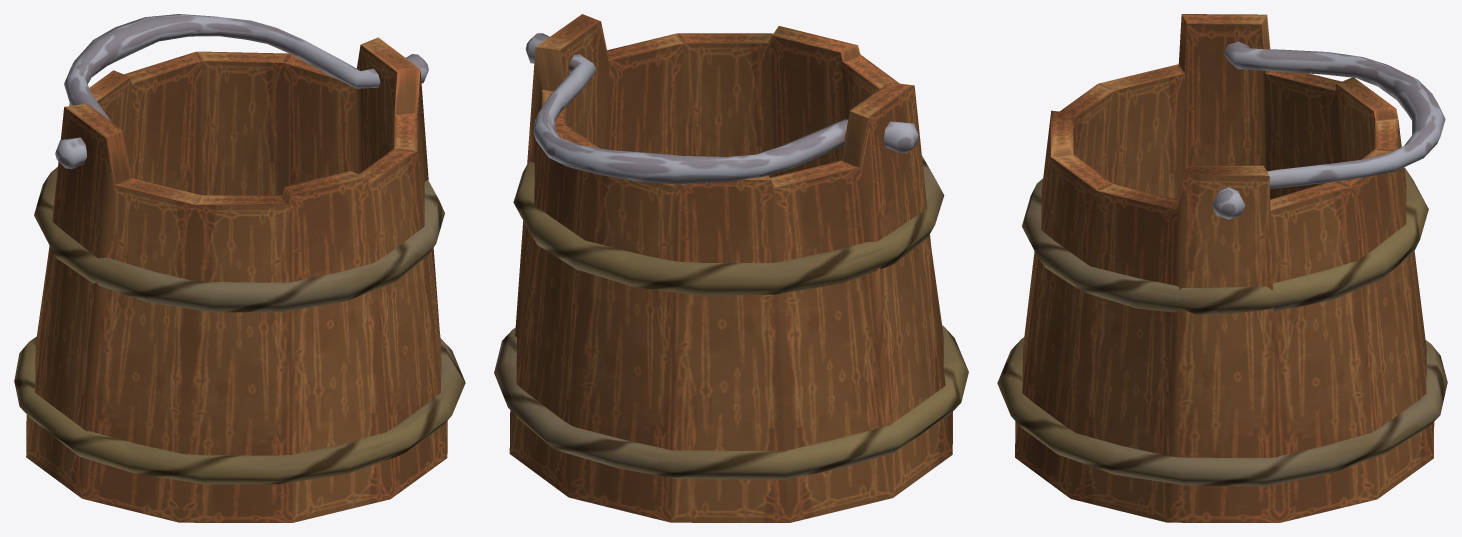
Rendered from Bucket_Wooden_2.fbx.
The picture shows the model from 3 angles, left to right: view 1: azimuth 30°, elevation 25°; view 2: azimuth 150°, elevation 25°; view 3: azimuth 270°, elevation 25°; orthographic projection. The views are drawn at different scales.
Visible parts, largest first — view 1: Bucket_Wooden_2; view 2: Bucket_Wooden_2; view 3: Bucket_Wooden_2.
Part boxes in pixels (left/top/right/bottom): Bucket_Wooden_2: left=14, top=14, right=465, bottom=522; Bucket_Wooden_2: left=494, top=14, right=968, bottom=522; Bucket_Wooden_2: left=997, top=14, right=1447, bottom=522.
Bounding box in the file's own units: 46.14 × 39.45 × 46.5.
